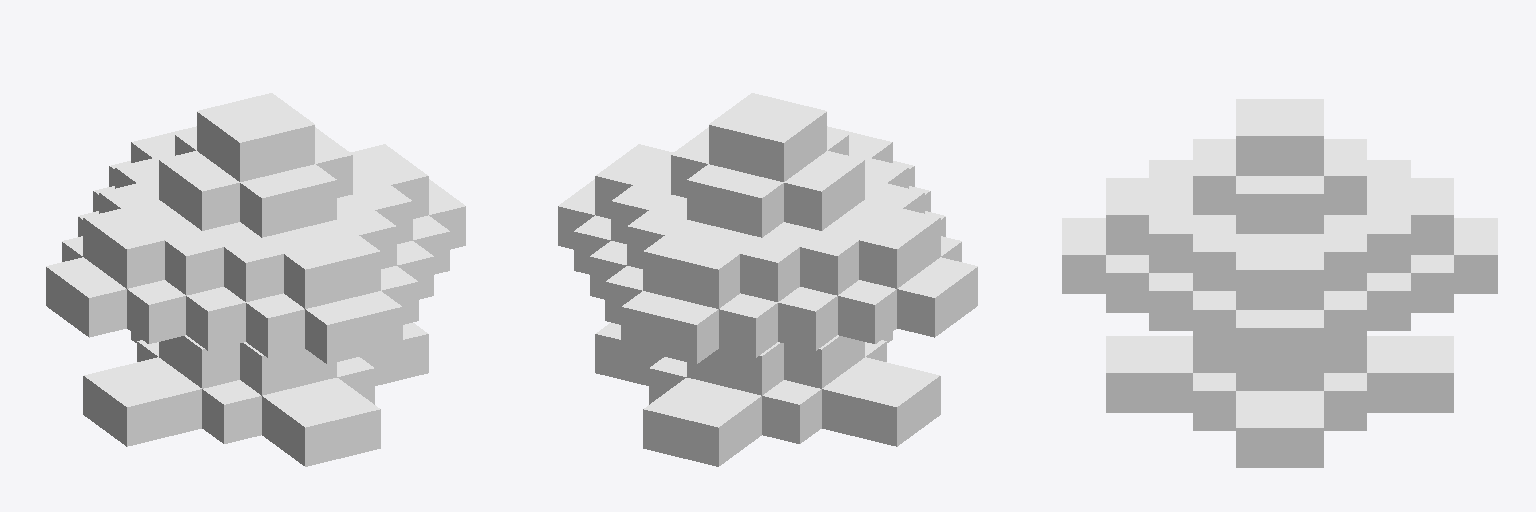
The model's file is Mushroom3.obj.
3 renders of one model, left to right at view 1: azimuth 30°, elevation 25°; view 2: azimuth 150°, elevation 25°; view 3: azimuth 270°, elevation 25°, orthographic.
Visible parts, largest first — view 1: object 1; view 2: object 1; view 3: object 1.
Boxes of the visible parts, x1,y1,x2,y2 form: object 1: [46, 93, 465, 466]; object 1: [558, 93, 977, 466]; object 1: [1062, 99, 1497, 467].
Size of the model in its own units: 1 by 0.7 by 1.